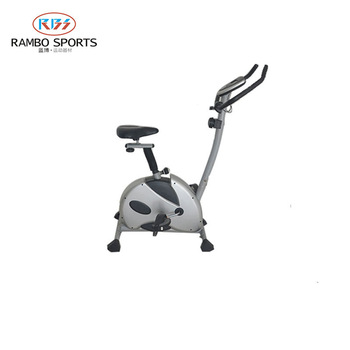gym_bike: (104, 59, 276, 252)
